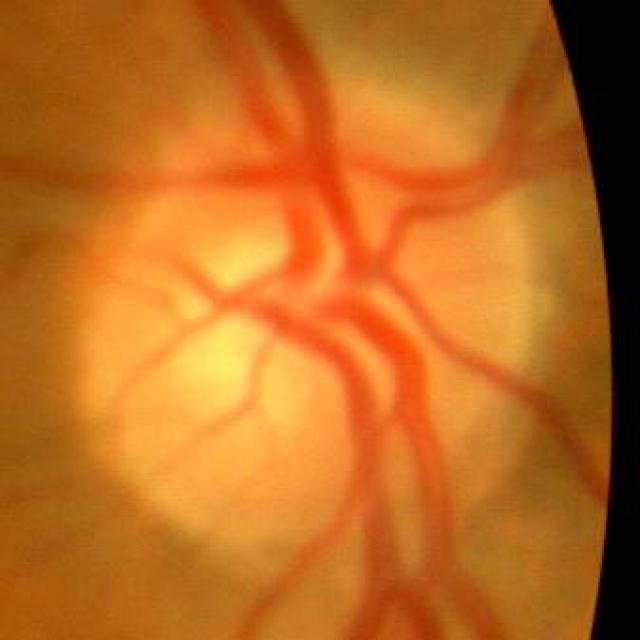OC: (159, 205, 414, 419)
OD: (77, 97, 541, 567)
